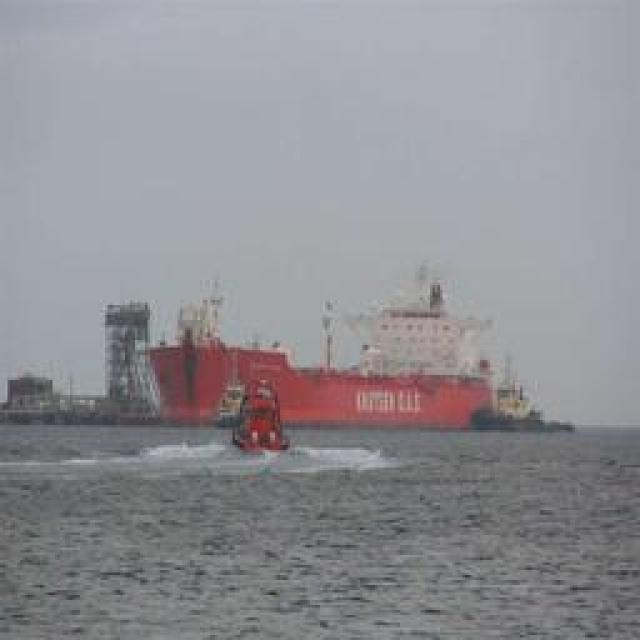CIV_Ship: (147, 288, 565, 436)
